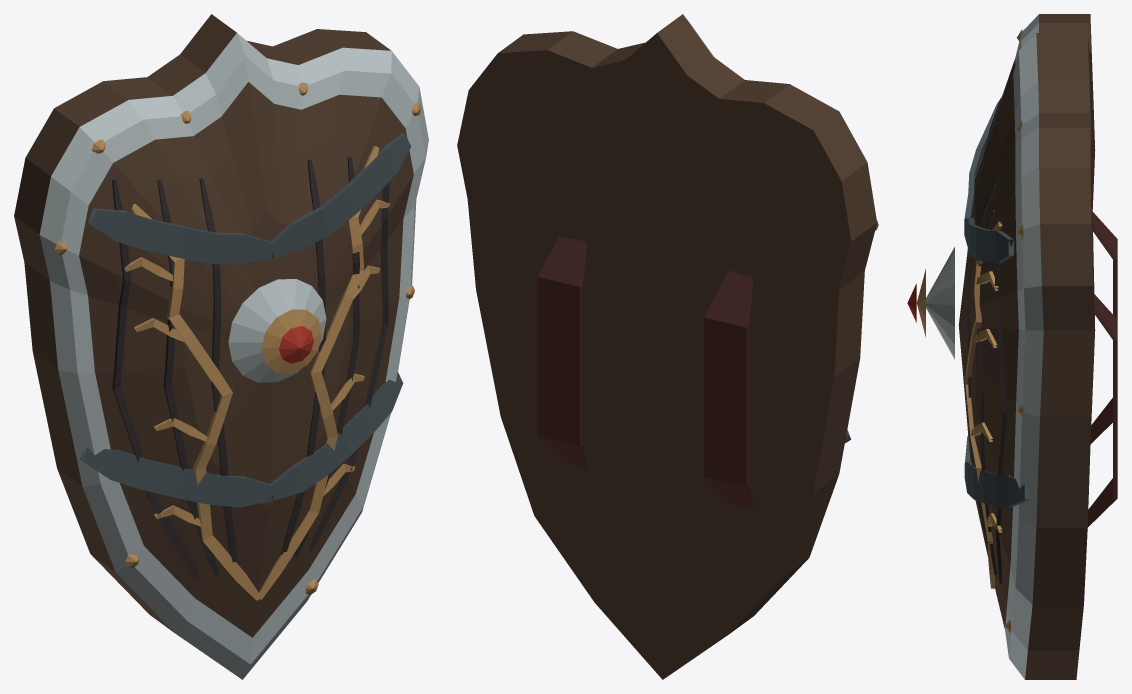
Rendered from ward_shield.glb.
The picture shows the model from 3 angles, left to right: view 1: azimuth 30°, elevation 25°; view 2: azimuth 150°, elevation 25°; view 3: azimuth 270°, elevation 25°; orthographic projection.
Parts seen in each view (by area): view 1: ward_shield; view 2: ward_shield; view 3: ward_shield.
Part boxes in pixels (x1,y1,x2,y2): ward_shield: (14,14,428,679); ward_shield: (457,14,878,679); ward_shield: (907,14,1117,679).
Size of the model in its own units: 0.484 by 0.764 by 0.225.
